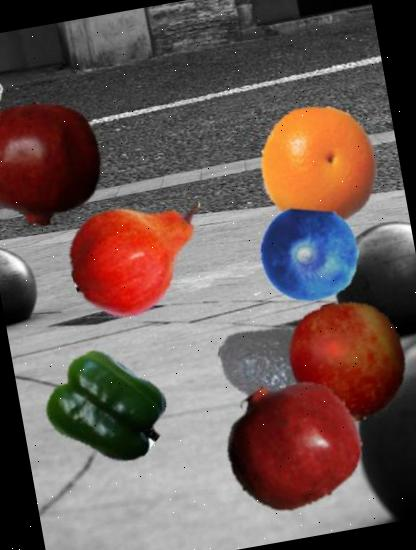Avocado: (206, 294, 353, 441)
Grapefruit: (250, 97, 390, 236)
Huckleberry: (251, 197, 367, 313)
Nectarine: (277, 290, 416, 430)
Pear: (57, 172, 226, 340)
Pepper: (41, 342, 175, 476)
Pomegranate: (212, 364, 370, 522), (0, 91, 113, 236)
